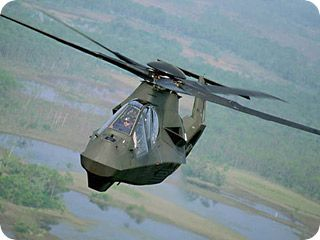MilitaryHelicopter: (86, 46, 236, 187)
